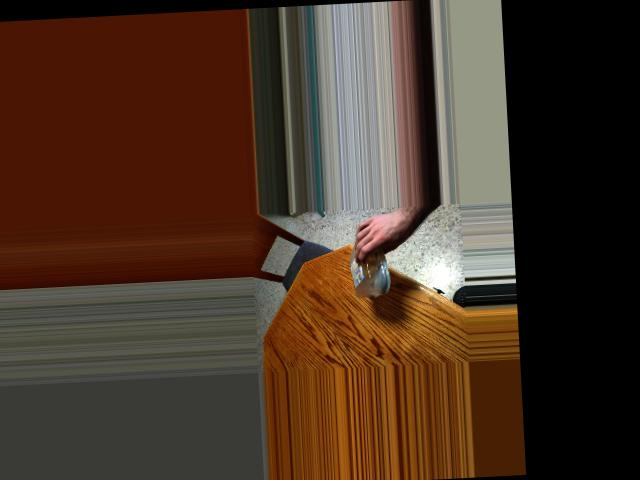cheese: (344, 228, 396, 290)
